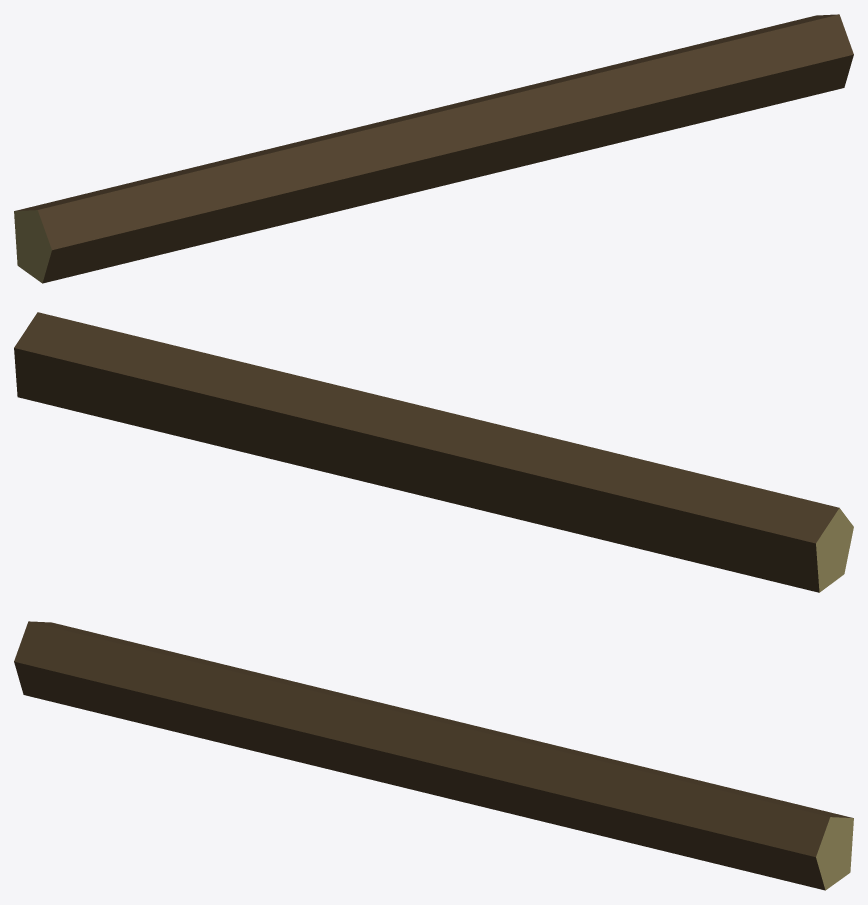
The picture shows the model from 3 angles, top to bottom: view 1: azimuth 30°, elevation 25°; view 2: azimuth 150°, elevation 25°; view 3: azimuth 330°, elevation 25°; orthographic projection.
Visible parts, largest first — view 1: 木材_pCylinder48; view 2: 木材_pCylinder48; view 3: 木材_pCylinder48.
Part boxes in pixels (box(x1,y1,x2,y2)): 木材_pCylinder48: box(14, 14, 853, 283); 木材_pCylinder48: box(14, 312, 853, 592); 木材_pCylinder48: box(14, 621, 853, 890).
Bounding box in the file's own units: 530 × 44.42 × 43.56.
